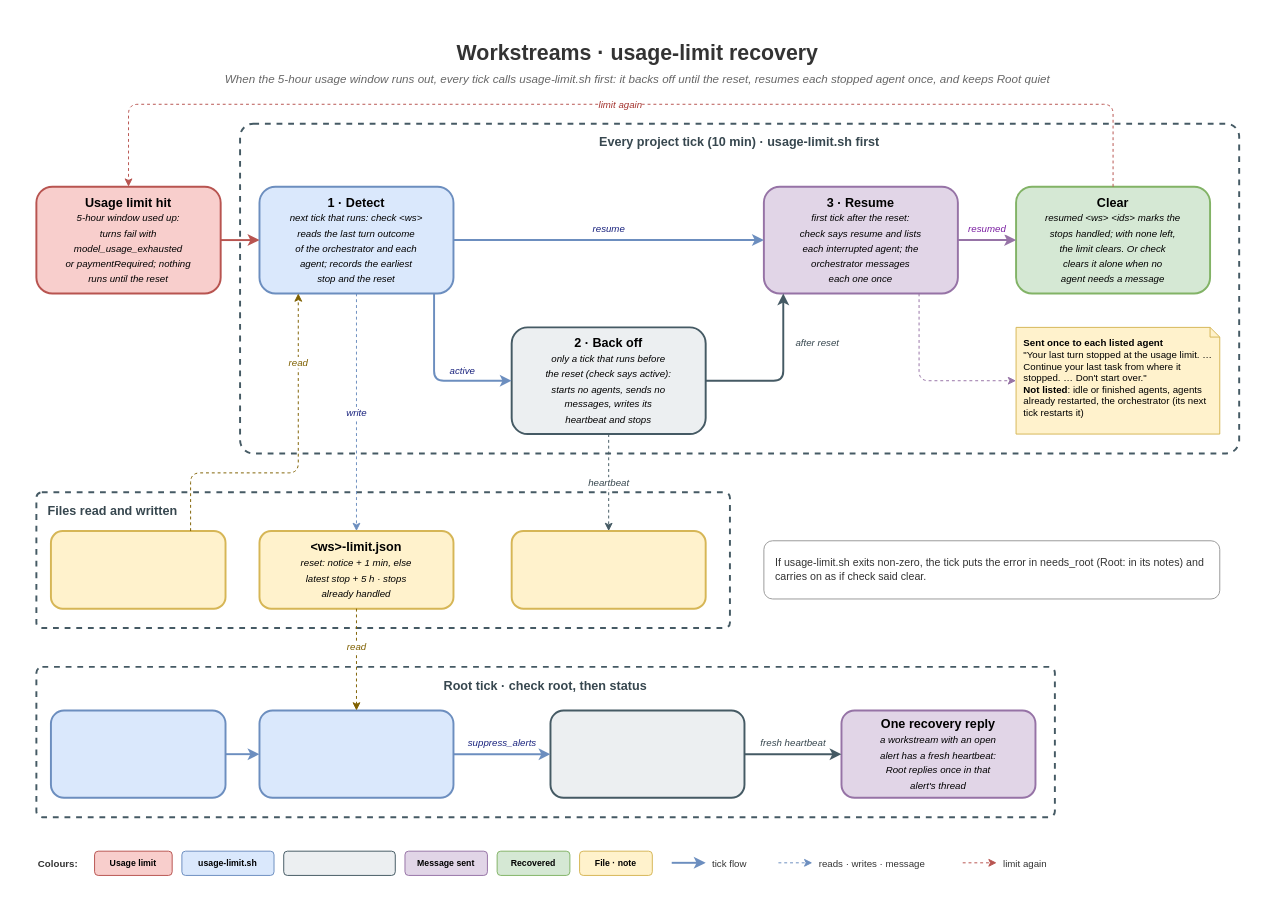
Some shapes in this 1275 by 916 pixel diagram are drawn without their labels. Each missing label, with the centre of its shape:
"<ws>-state.json heartbeat: the orchestrator session and its agents" belongs at pixel 608 569.
"check root Root's own session, the same rule" belongs at pixel 137 753.
"No stale-heartbeat alerts while a limit is active and for 30 min after the reset" belongs at pixel 647 753.
"Session transcripts last turn outcome and the limit notice, per session" belongs at pixel 137 569.
"status reads every *-limit.json: suppress_alerts, until" belongs at pixel 356 753.
"Waits · stays quiet" belongs at pixel 339 862.
